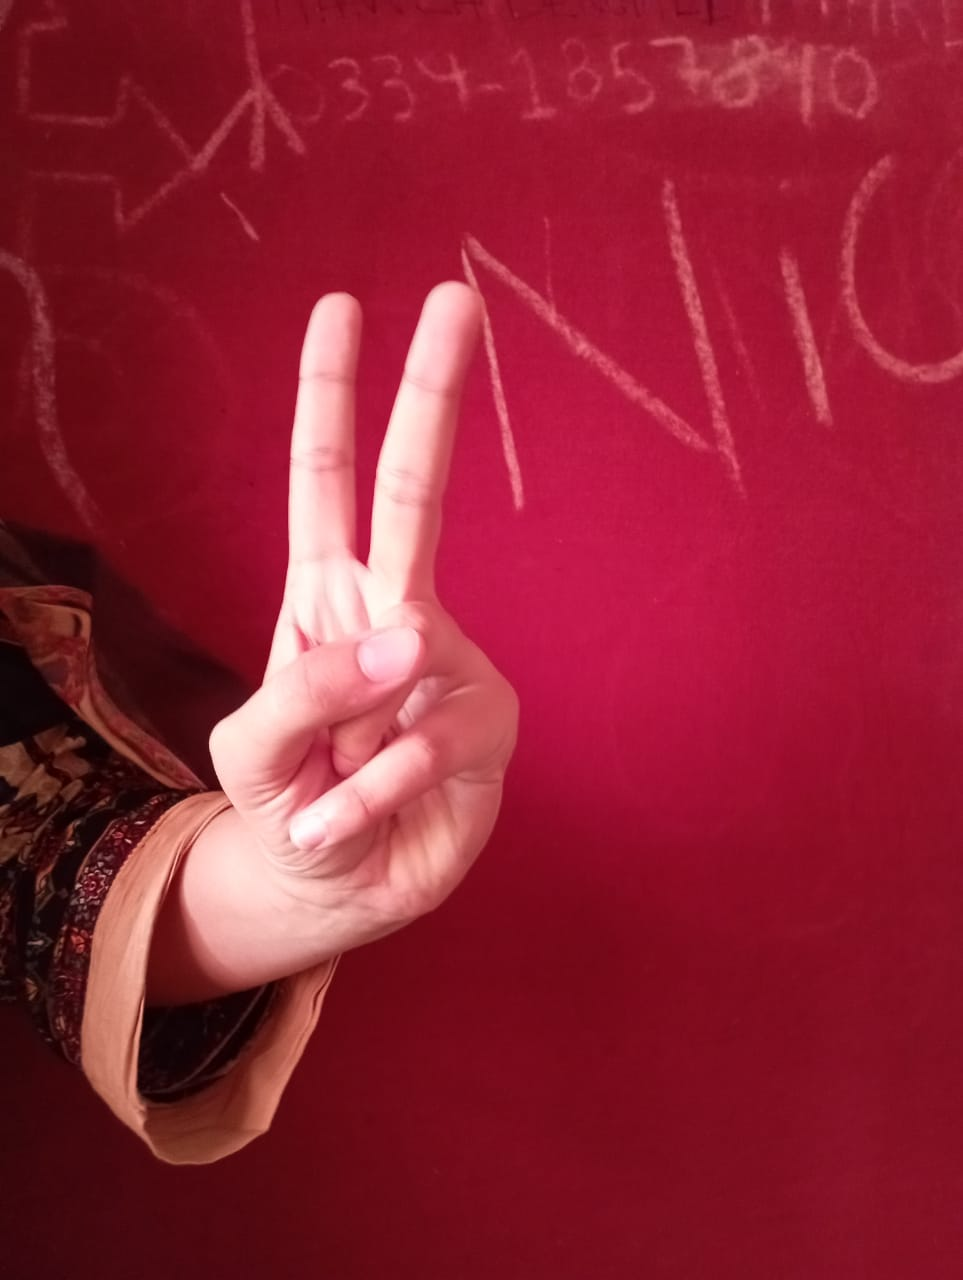Peace: (199, 272, 532, 943)
